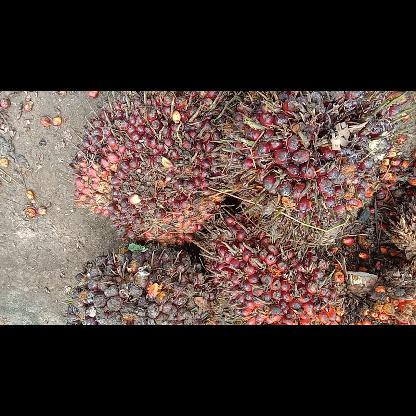Kurang masak: (64, 240, 220, 324)
TBS masak: (66, 90, 258, 250), (218, 92, 410, 248), (192, 210, 360, 324)
